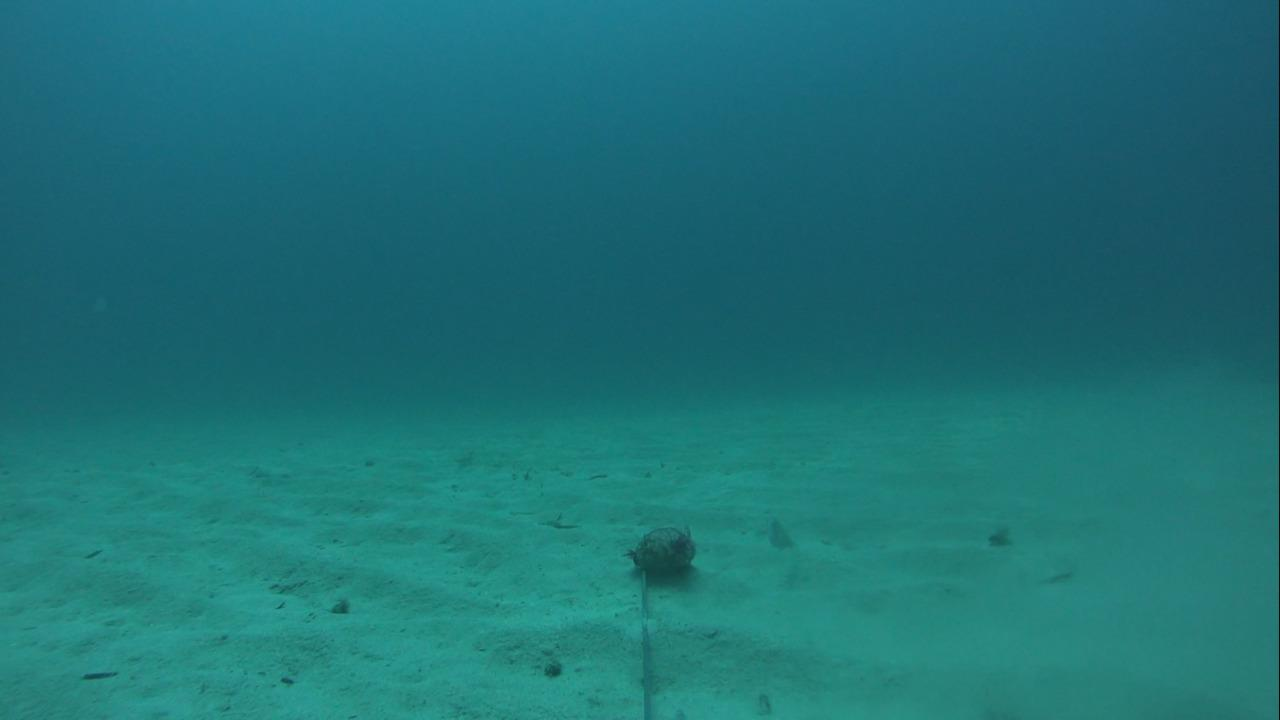raor: (750, 514, 807, 560)
